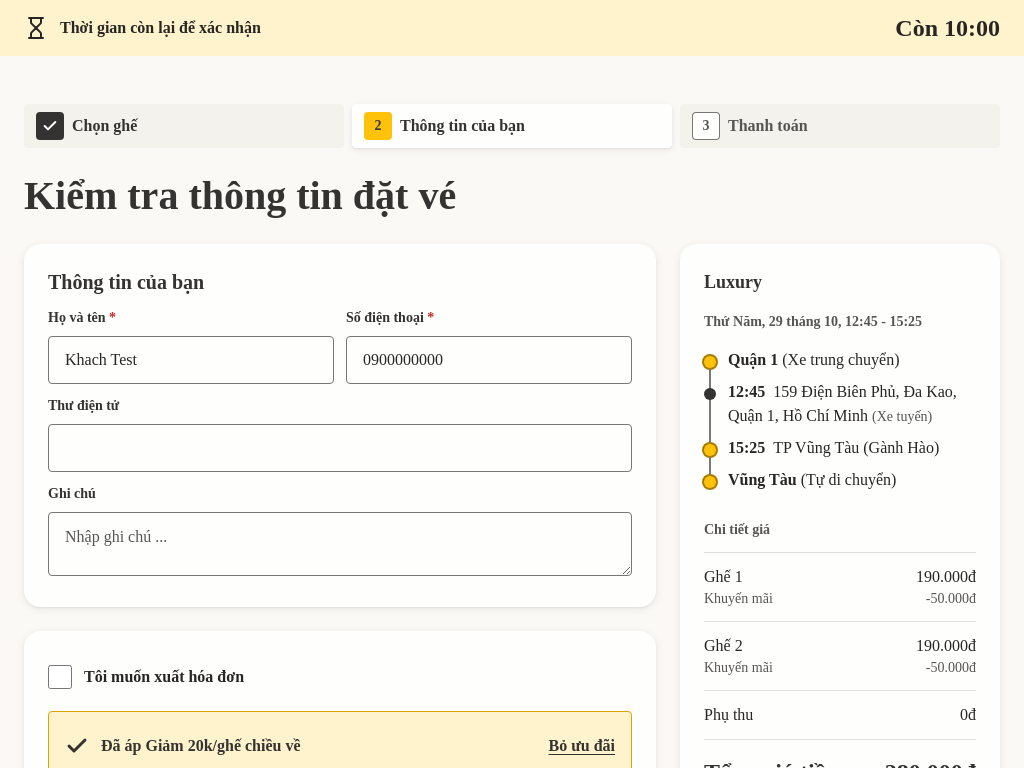
Test: Tự áp mã chương trình ở bước xác nhận › gỡ ưu đãi: bỏ nhãn và mã khỏi ghế, không tự áp lại
Expected: the text "Đã áp Giảm 20k/ghế chiều về" is shown, [101,737,301,754]
Click the button "Bỏ ưu đãi": (582, 746) [548,724,615,767]
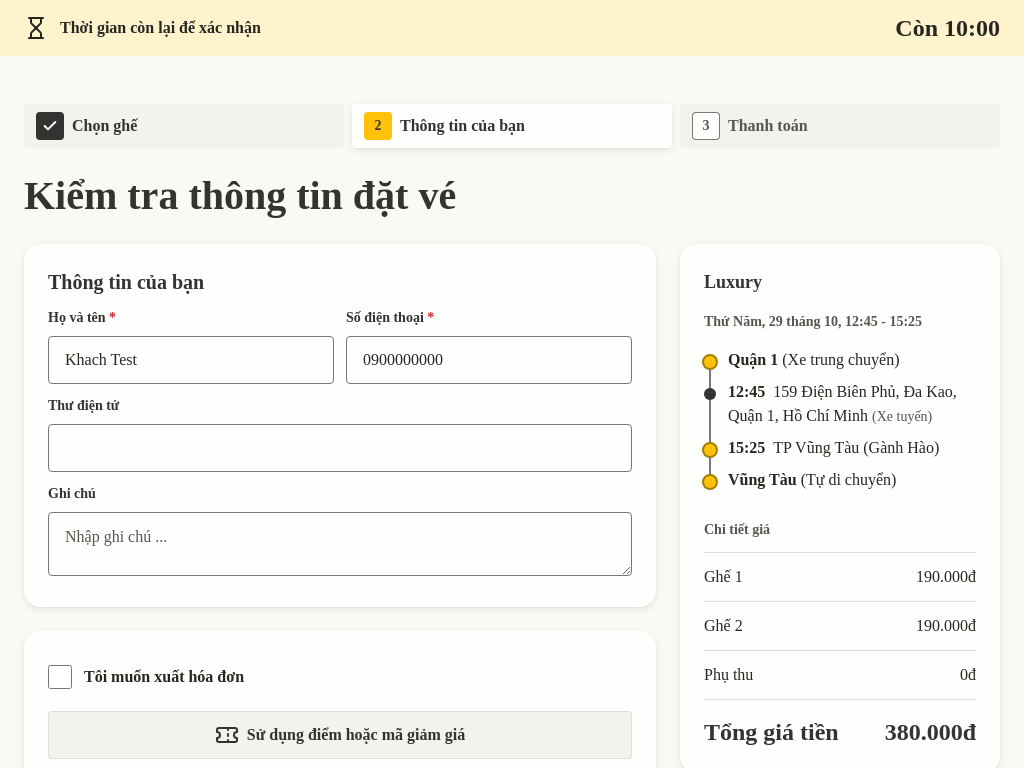
Expected: the text "Đã áp" is gone
